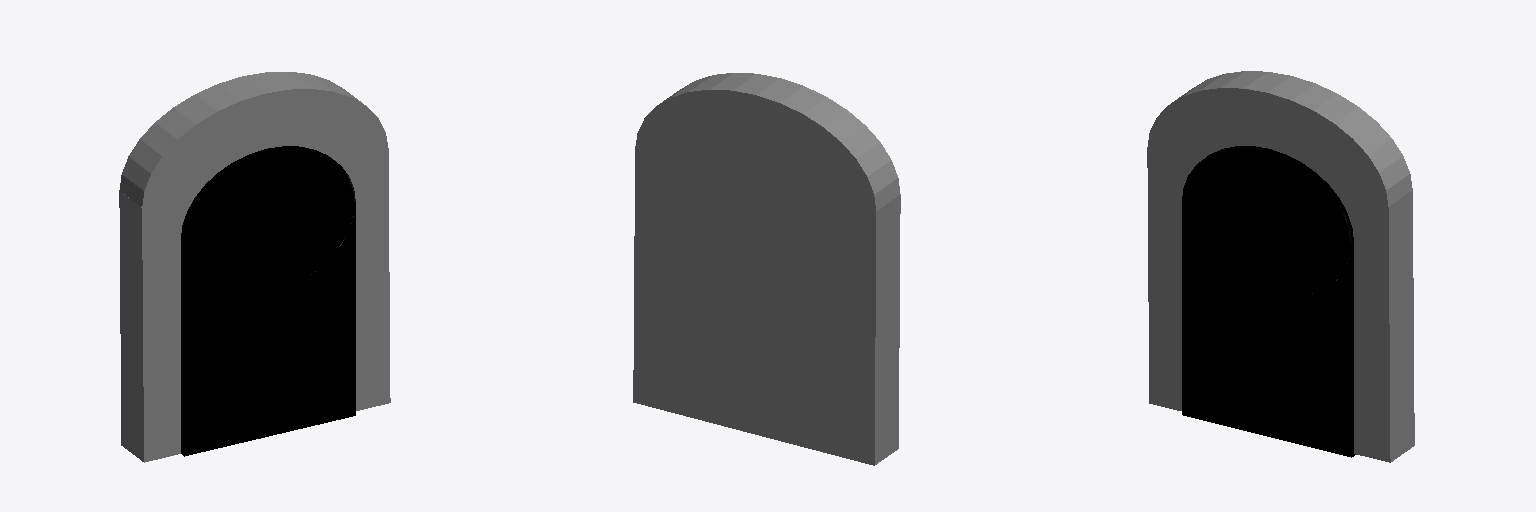
3 views of the same model, side by side, from view 1: azimuth 30°, elevation 25°; view 2: azimuth 150°, elevation 25°; view 3: azimuth 330°, elevation 25° (orthographic).
Visible parts, largest first — view 1: 立方体.002; view 2: 立方体.002; view 3: 立方体.002.
Part boxes in pixels (left/top/right/bottom): 立方体.002: left=119, top=72, right=390, bottom=462; 立方体.002: left=633, top=73, right=900, bottom=465; 立方体.002: left=1147, top=71, right=1414, bottom=462.
Size of the model in its own units: 1.52 by 2 by 0.3004.
1 materials, 1 textured.